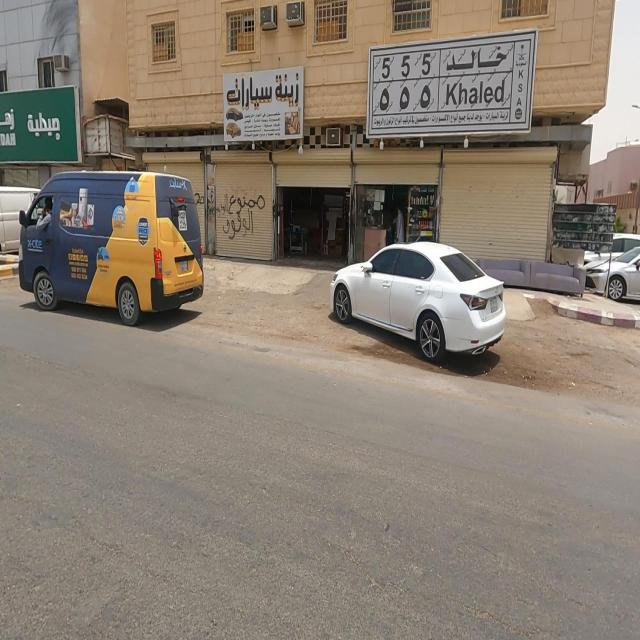Graffiti: (214, 197, 267, 242), (195, 190, 205, 210)
